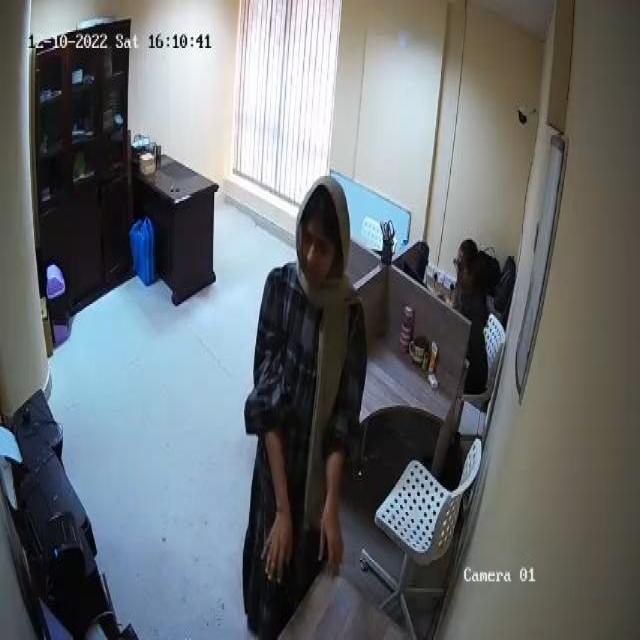bare_hand: (259, 517, 296, 592), (317, 501, 346, 580)
